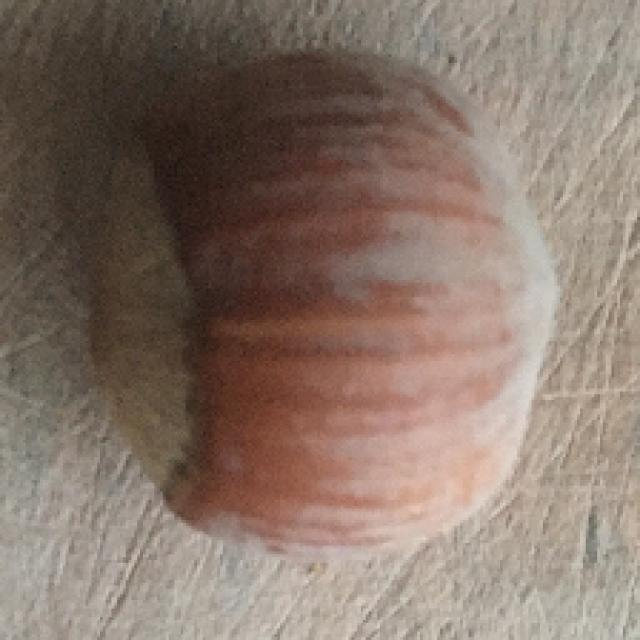qualityHazelnut: (82, 55, 570, 552)
